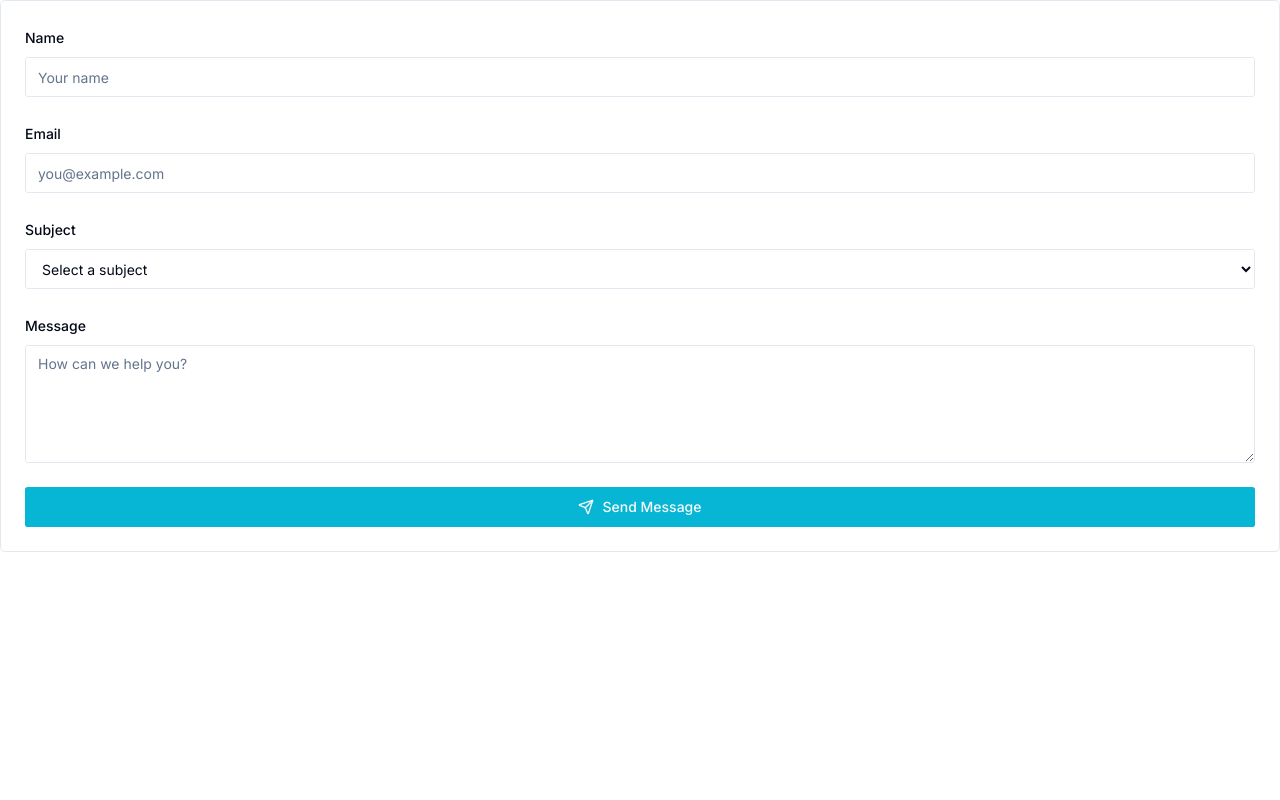
ContactForm › shows a retry-safe error when ticket creation fails
Type "Ava Customer" into the field labelled "Name" at (640, 77), box [25,57,1255,97]
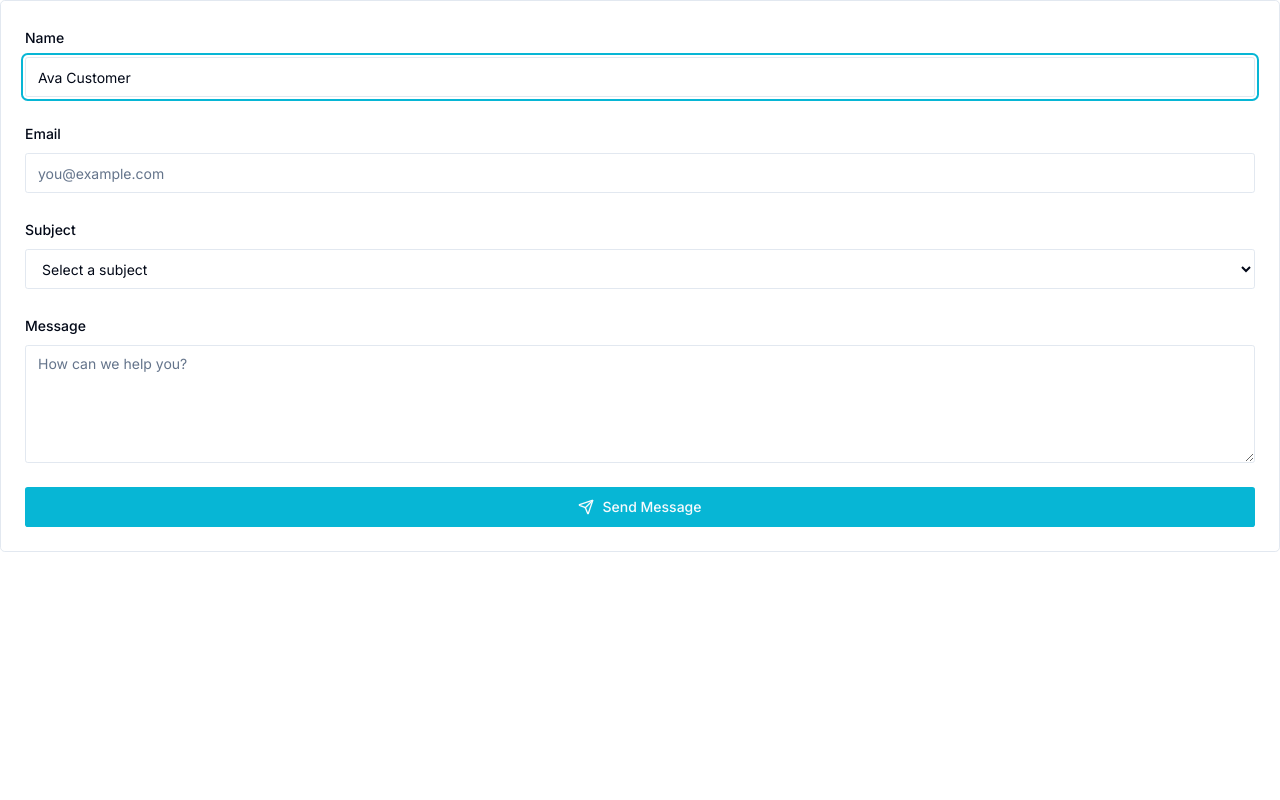
Type "ava@example.com" into the field labelled "Email" at (640, 173), box [25,153,1255,193]
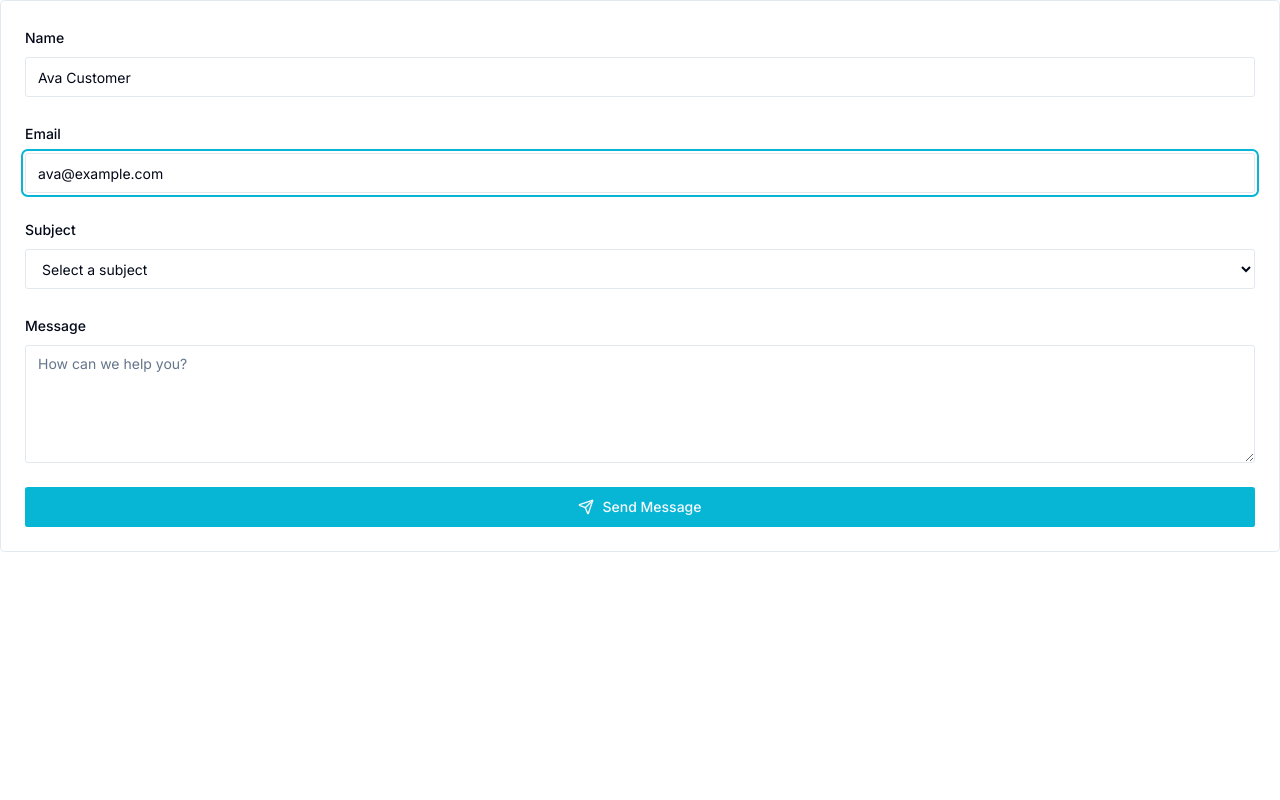
Select "Product Support" in the dropdown labelled "Subject" at (640, 269), box [25,249,1255,289]
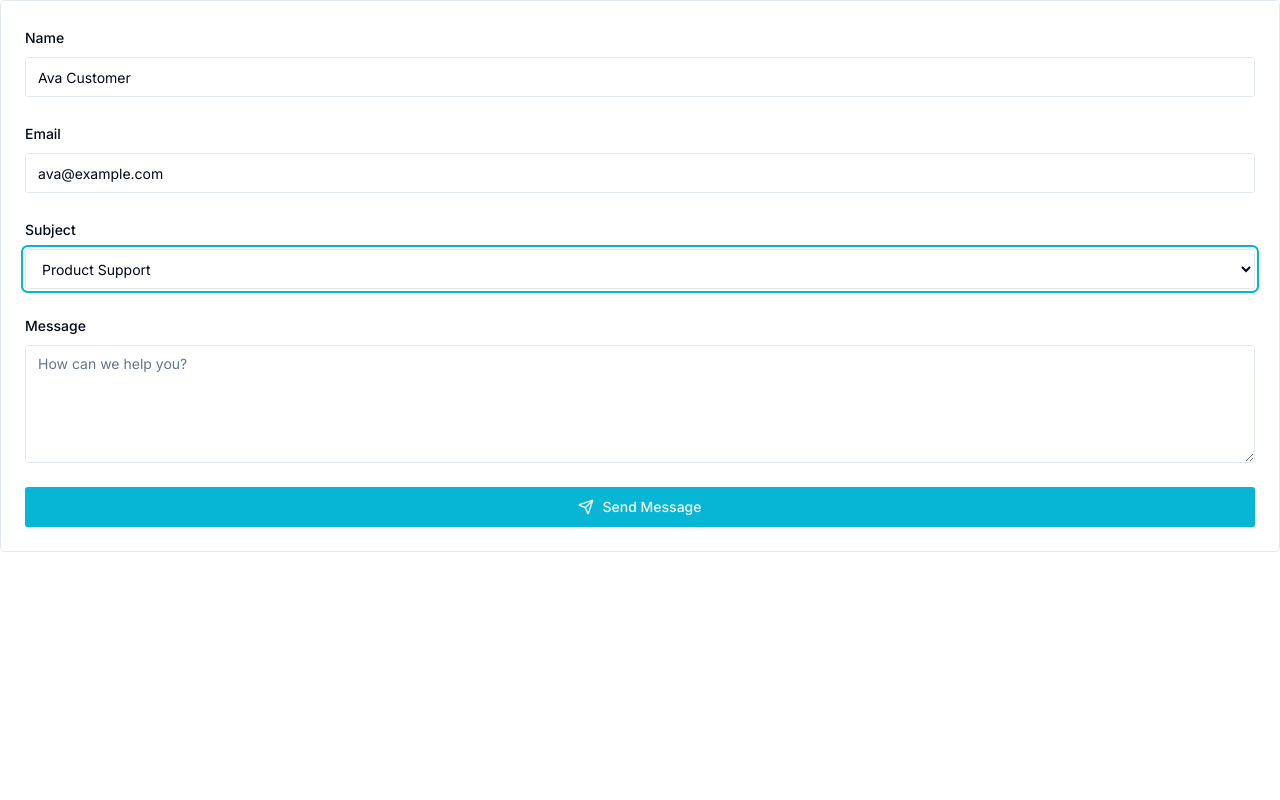
Type "Can you check compatibility?" into the text box labelled "Message" at (640, 404), box [25,345,1255,463]
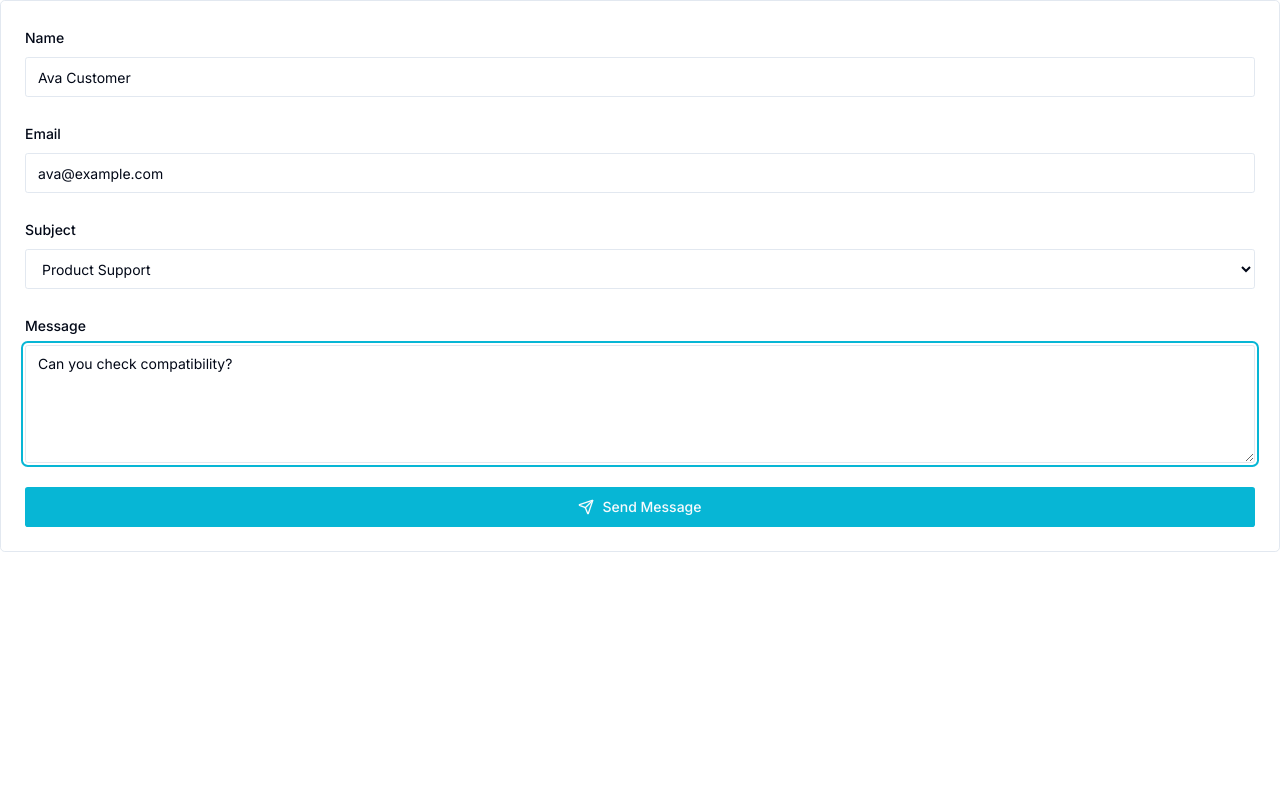
Click the button "Send Message" at (640, 507), box [25,487,1255,527]
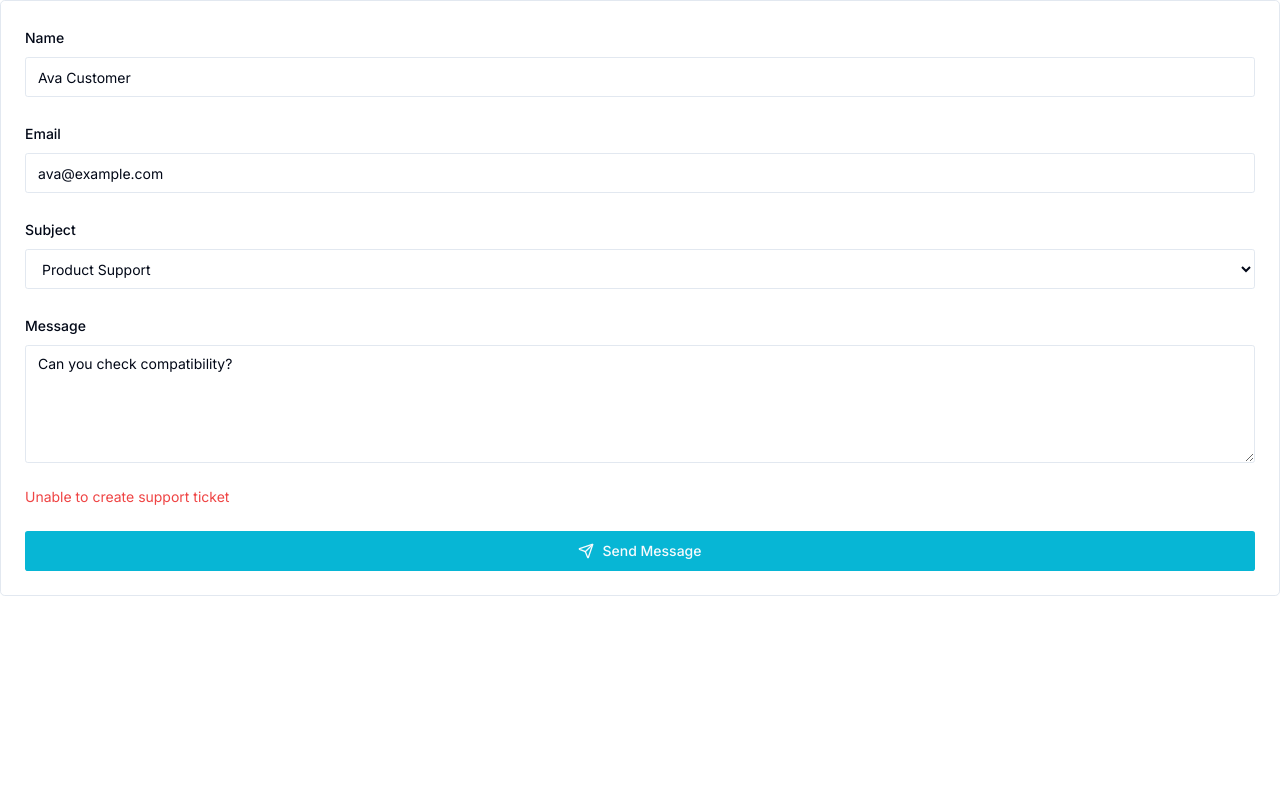
Result: the message reads "Unable to create support ticket" at [25,488,229,505]
